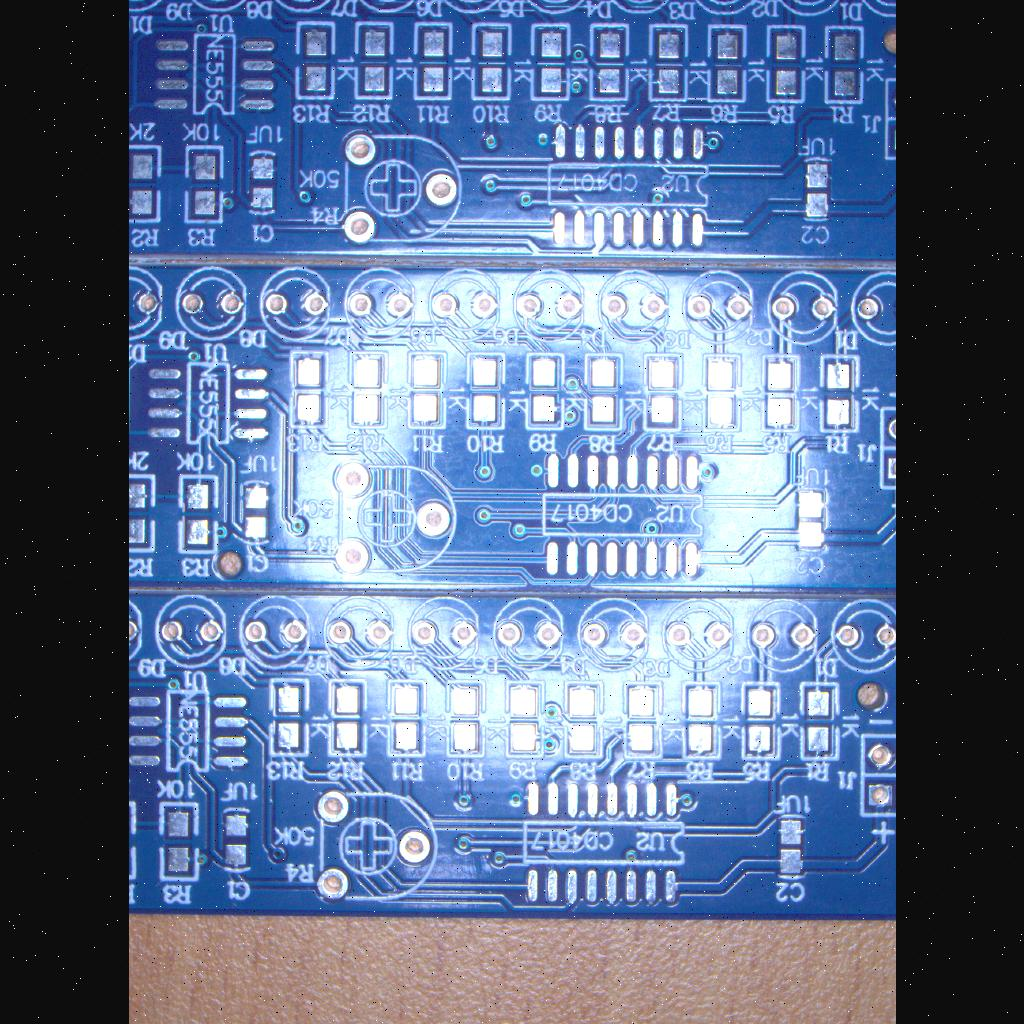NG: (530, 445, 712, 587), (511, 773, 695, 911), (540, 116, 718, 256), (143, 28, 283, 120), (140, 357, 274, 451), (128, 686, 254, 776), (736, 674, 788, 766), (814, 348, 866, 436), (402, 344, 452, 434), (288, 18, 340, 104), (754, 350, 806, 436), (794, 678, 846, 764), (696, 349, 746, 437), (152, 798, 202, 886), (636, 352, 688, 436), (585, 17, 633, 107), (174, 470, 222, 560), (618, 678, 668, 764), (701, 21, 751, 105), (408, 18, 458, 102), (348, 19, 398, 103), (177, 142, 227, 226), (520, 349, 570, 433), (342, 348, 392, 432), (676, 678, 726, 762), (467, 18, 515, 104), (580, 348, 628, 434), (561, 676, 609, 762), (441, 674, 489, 760), (324, 676, 372, 762), (266, 673, 312, 761), (821, 22, 869, 106), (285, 347, 333, 431), (500, 678, 548, 762), (764, 19, 808, 105), (528, 20, 574, 102), (463, 350, 509, 432), (383, 678, 429, 760), (646, 20, 690, 104), (128, 140, 168, 224), (770, 810, 814, 884), (786, 484, 830, 556), (800, 150, 838, 230), (214, 802, 254, 878), (240, 148, 282, 220), (232, 478, 274, 548), (128, 469, 160, 557)
